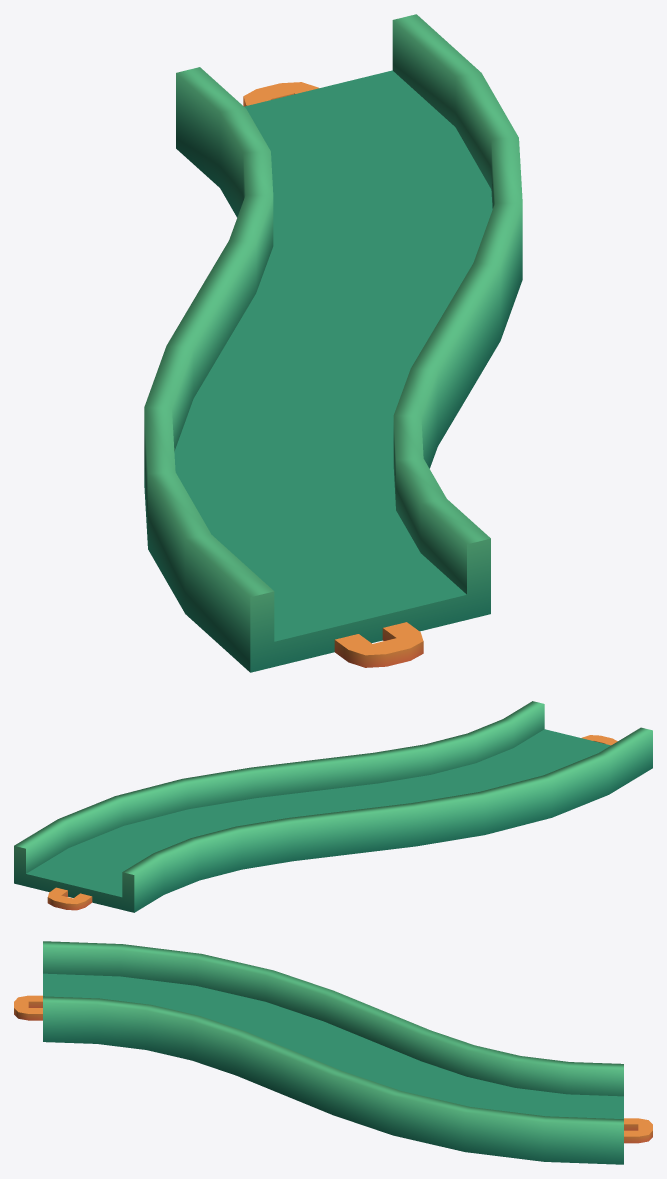
The model's file is track-narrow-curve.fbx.
3 views of the same model, one above another, from view 1: azimuth 30°, elevation 25°; view 2: azimuth 150°, elevation 25°; view 3: azimuth 270°, elevation 25° (orthographic). The views are drawn at different scales.
Parts seen in each view (by area): view 1: track-narrow-curve; view 2: track-narrow-curve; view 3: track-narrow-curve.
Part boxes in pixels (x1,y1,x2,y2): track-narrow-curve: (144, 14, 522, 672); track-narrow-curve: (14, 701, 652, 912); track-narrow-curve: (14, 941, 652, 1164).
Bounding box in the file's own units: 300 × 30 × 440.
